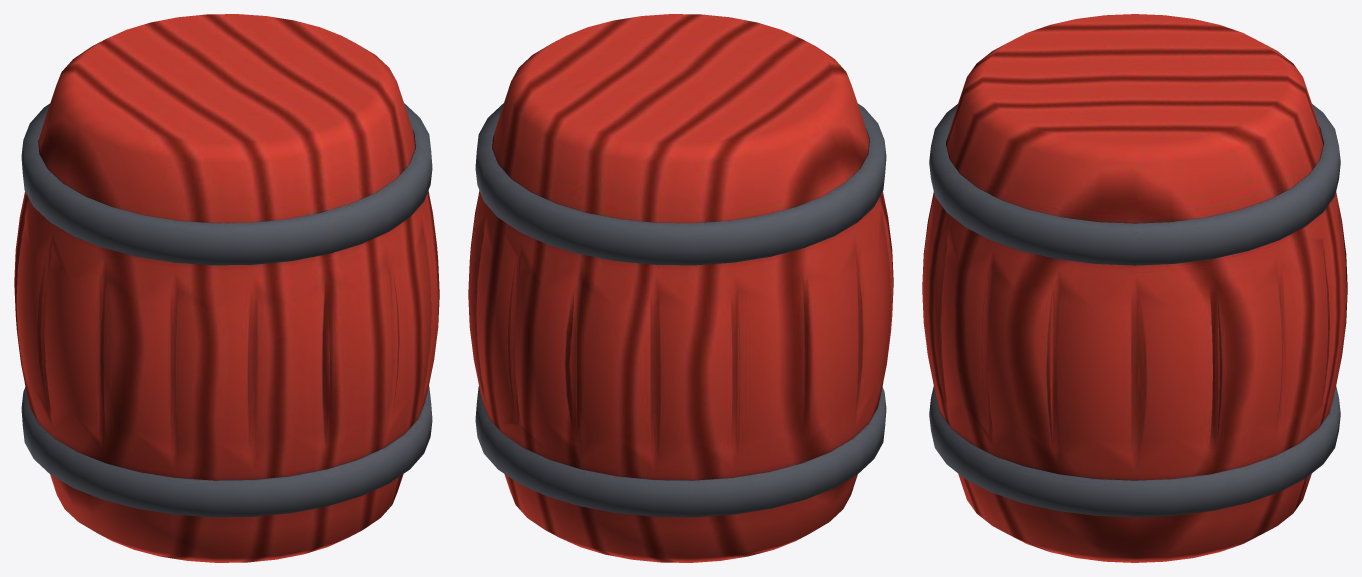
Rendered from varilK.glb.
3 views of the same model, side by side, from view 1: azimuth 30°, elevation 25°; view 2: azimuth 150°, elevation 25°; view 3: azimuth 270°, elevation 25° (orthographic).
Parts seen in each view (by area): view 1: varil; view 2: varil; view 3: varil.
Part boxes in pixels (bbox=[...]): varil: bbox=[14, 14, 439, 562]; varil: bbox=[468, 14, 893, 562]; varil: bbox=[922, 14, 1347, 562].
Size of the model in its own units: 0.9184 by 1 by 0.9184.
Materials: 2 (2 with a texture image).
